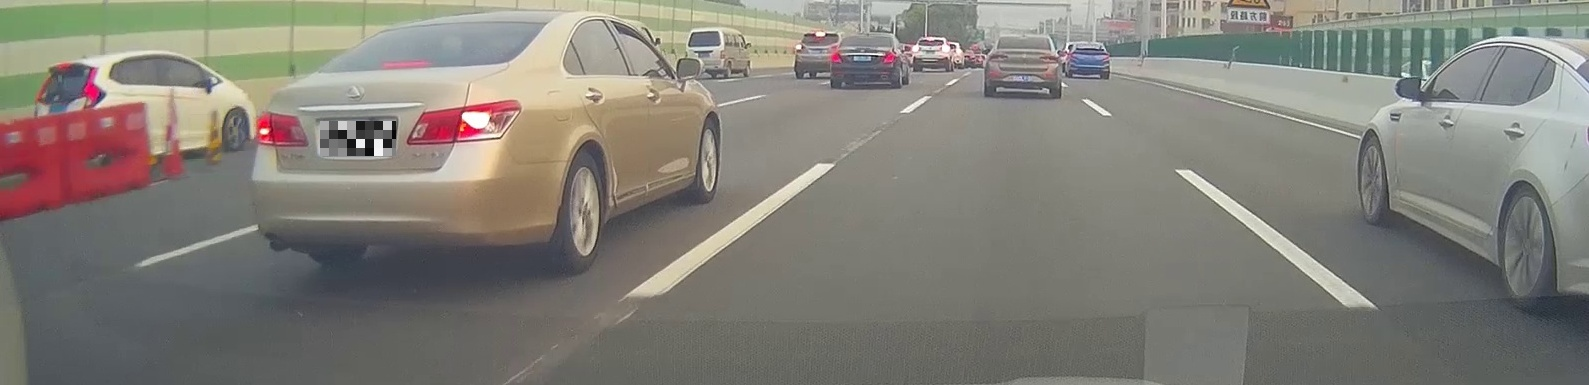L_light: (252, 111, 309, 147), (830, 52, 843, 64), (988, 54, 1009, 61), (1065, 53, 1077, 60), (913, 45, 921, 53)
R_light: (406, 100, 522, 145), (1039, 54, 1060, 63), (881, 51, 896, 63), (1098, 54, 1110, 60), (938, 46, 949, 51)
T_light: (382, 62, 426, 67), (863, 34, 873, 37), (1019, 36, 1028, 38), (1084, 43, 1092, 45), (927, 38, 934, 40)
day-brake: (251, 12, 577, 276), (912, 37, 951, 72)
day-no: (985, 34, 1061, 98), (829, 32, 900, 89), (1065, 42, 1110, 80)
plate_1: (320, 121, 396, 156)
